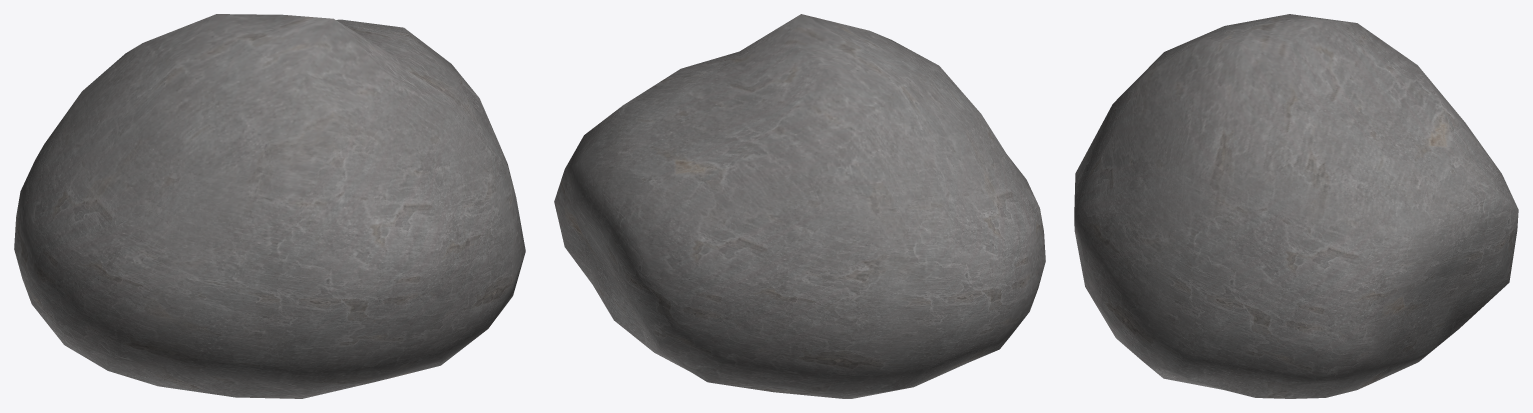
File: Rock2.fbx
3 renders of one model, left to right at view 1: azimuth 30°, elevation 25°; view 2: azimuth 150°, elevation 25°; view 3: azimuth 270°, elevation 25°, orthographic. The views are drawn at different scales.
Visible parts, largest first — view 1: Rock2; view 2: Rock2; view 3: Rock2.
Boxes of the visible parts, x1=… form: Rock2: x1=14, y1=14, x2=525, y2=398; Rock2: x1=554, y1=14, x2=1045, y2=398; Rock2: x1=1074, y1=14, x2=1518, y2=398.
Bounding box in the file's own units: 203 × 145 × 179.
